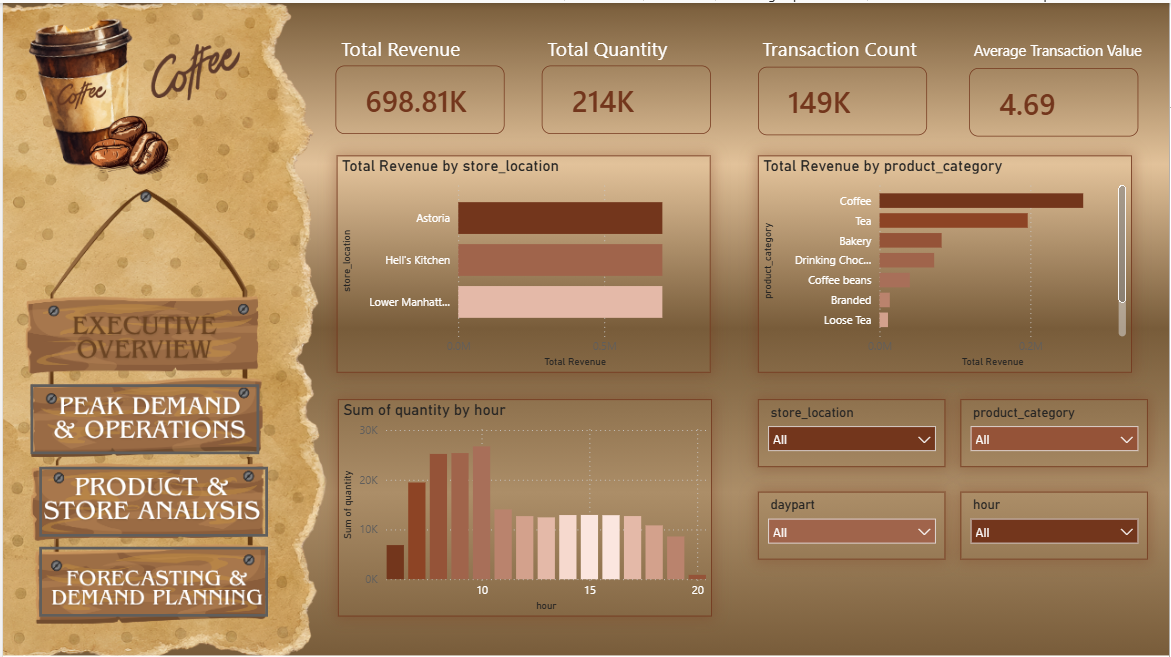

The dashboard page shown, as its layout file describes it:
{"tool":"powerbi","page":{"name":"Executive Overview page","canvas":[1280,720],"ordinal":1},"visuals":[{"type":"cardVisual","fields":{"Data":["transactions_clean.Total Revenue"]},"box":[365,68.6,185.2,75.5],"z":0},{"type":"textbox","box":[366.4,30.2,185.2,49.4],"z":1000},{"type":"textbox","box":[828.8,30.2,185.2,49.4],"z":2000},{"type":"cardVisual","fields":{"Data":["transactions_clean.Total Quantity"]},"box":[591.4,68.6,185.2,75.5],"z":3000},{"type":"cardVisual","fields":{"Data":["transactions_clean.Transaction Count"]},"box":[828.8,70,185.2,75.5],"z":4000},{"type":"cardVisual","fields":{"Data":["transactions_clean.Average Transaction Value"]},"box":[1060.7,71.4,185.2,75.5],"z":5000},{"type":"textbox","box":[592.8,30.2,185.2,49.4],"z":6000},{"type":"textbox","box":[1060.7,35.7,201.7,38.4],"z":7000},{"type":"clusteredBarChart","fields":{"Category":["store_summary.store_location"],"Y":["transactions_clean.Total Revenue"]},"box":[366.4,167.4,410.3,238.8],"z":8000},{"type":"barChart","fields":{"Category":["category_summary.product_category"],"Y":["transactions_clean.Total Revenue"]},"box":[828.8,167.4,410.3,238.8],"z":9000},{"type":"clusteredColumnChart","fields":{"Category":["hourly_store_demand.hour"],"Y":["Sum(hourly_store_demand.quantity)"]},"box":[367.8,435,410.3,238.8],"z":10000},{"type":"slicer","fields":{"Values":["transactions_clean.store_location"]},"box":[828.8,435,205.8,74.1],"z":11000},{"type":"slicer","fields":{"Values":["transactions_clean.product_category"]},"box":[1051.1,435,205.8,74.1],"z":12000},{"type":"slicer","fields":{"Values":["transactions_clean.daypart"]},"box":[828.8,536.5,205.8,74.1],"z":13000},{"type":"slicer","fields":{"Values":["transactions_clean.hour"]},"box":[1051.1,536.5,205.8,74.1],"z":14000},{"type":"actionButton","box":[30.2,418.5,251.1,76.8],"z":15000},{"type":"actionButton","box":[39.8,509.1,251.1,76.8],"z":16000},{"type":"actionButton","box":[39.8,596.9,251.1,76.8],"z":17000}]}

Visuals, with their boxes in screenshot pixels (x1, y1, x2, y2), scaled from the page's 1280x720 canvas onto the 1171x657 screenshot:
cardVisual - transactions_clean.Total Revenue: 334/63/503/131
textbox: 335/28/505/73
textbox: 758/28/928/73
cardVisual - transactions_clean.Total Quantity: 541/63/710/131
cardVisual - transactions_clean.Transaction Count: 758/64/928/133
cardVisual - transactions_clean.Average Transaction Value: 970/65/1140/134
textbox: 542/28/712/73
textbox: 970/33/1155/68
clusteredBarChart - store_summary.store_location x transactions_clean.Total Revenue: 335/153/711/371
barChart - category_summary.product_category x transactions_clean.Total Revenue: 758/153/1134/371
clusteredColumnChart - hourly_store_demand.hour x Sum(hourly_store_demand.quantity): 336/397/712/615
slicer - transactions_clean.store_location: 758/397/946/465
slicer - transactions_clean.product_category: 962/397/1150/465
slicer - transactions_clean.daypart: 758/490/946/557
slicer - transactions_clean.hour: 962/490/1150/557
actionButton: 28/382/257/452
actionButton: 36/465/266/535
actionButton: 36/545/266/615
